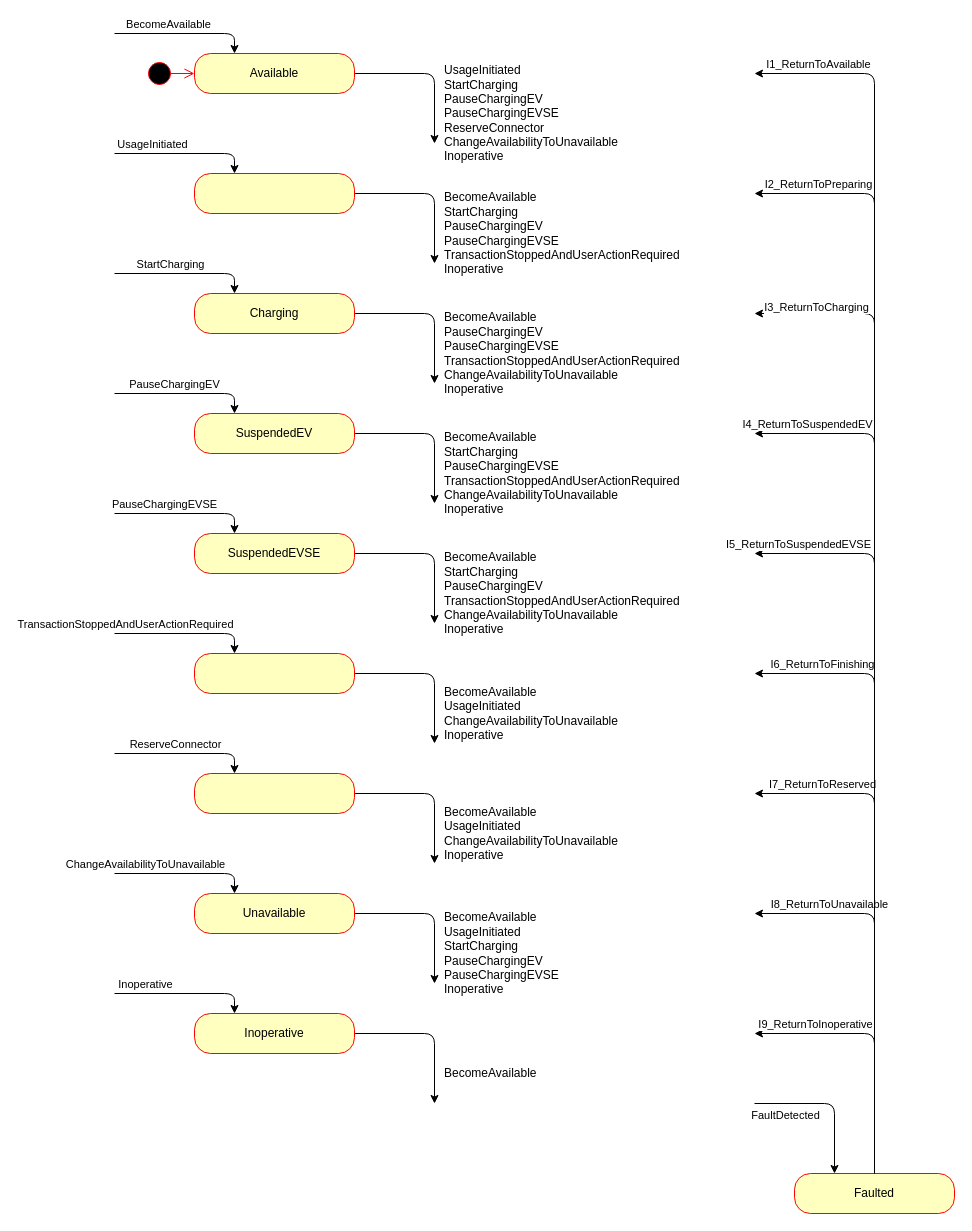
This 972x1231 diagram has some shape labels left out. Each missing label, with the box of its shape:
Finishing: (194, 652, 354, 694)
Preparing: (194, 172, 354, 214)
Reserved: (194, 772, 354, 814)
